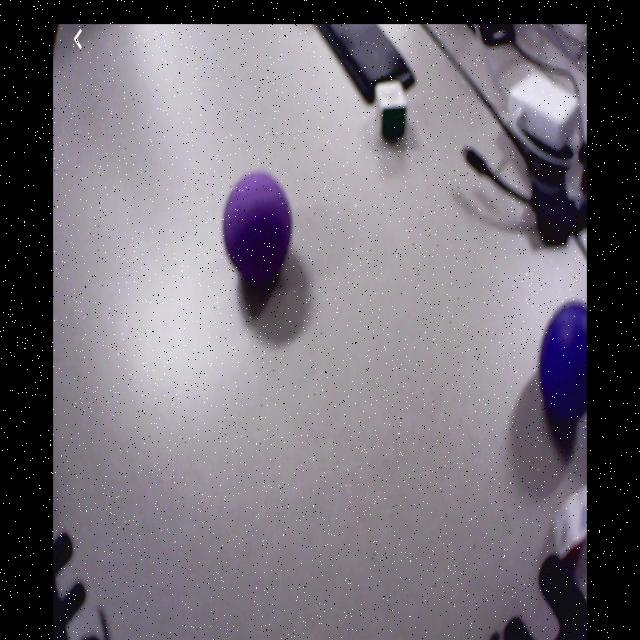ball: (224, 173, 291, 275), (541, 303, 588, 429)
